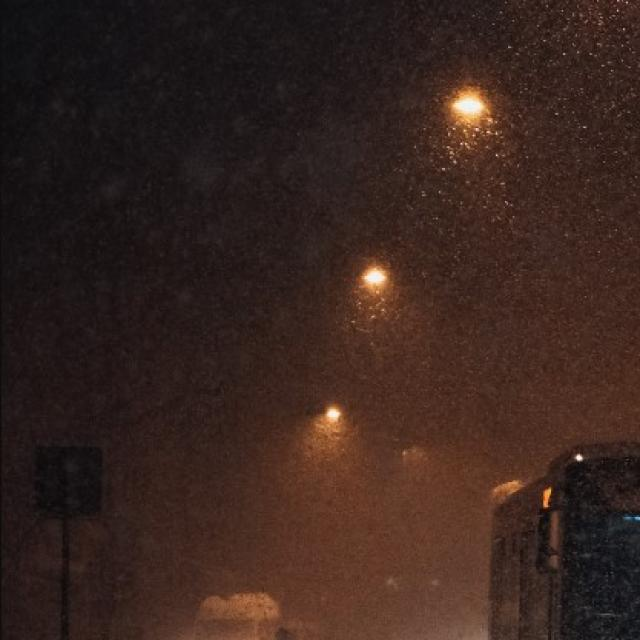bus: (483, 434, 640, 640)
car: (176, 583, 281, 640), (396, 630, 486, 640)
